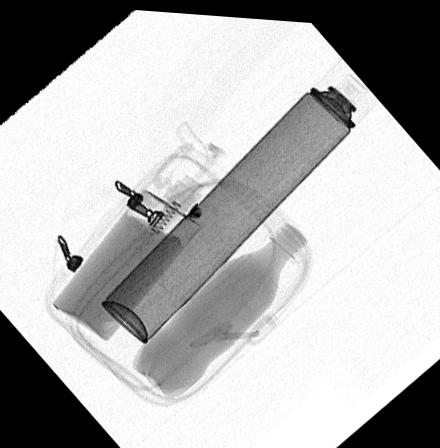Sprayer: (100, 51, 376, 341)
